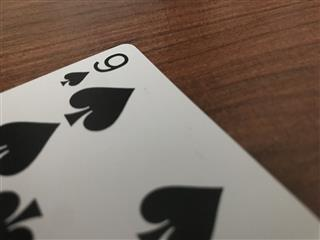NineOfSpades: (1, 42, 320, 240)
